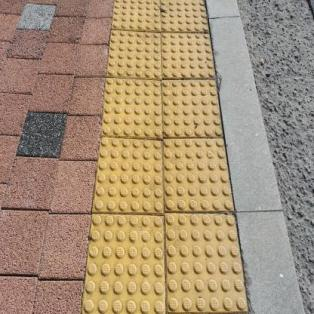Podoctatil: (75, 0, 253, 313)
